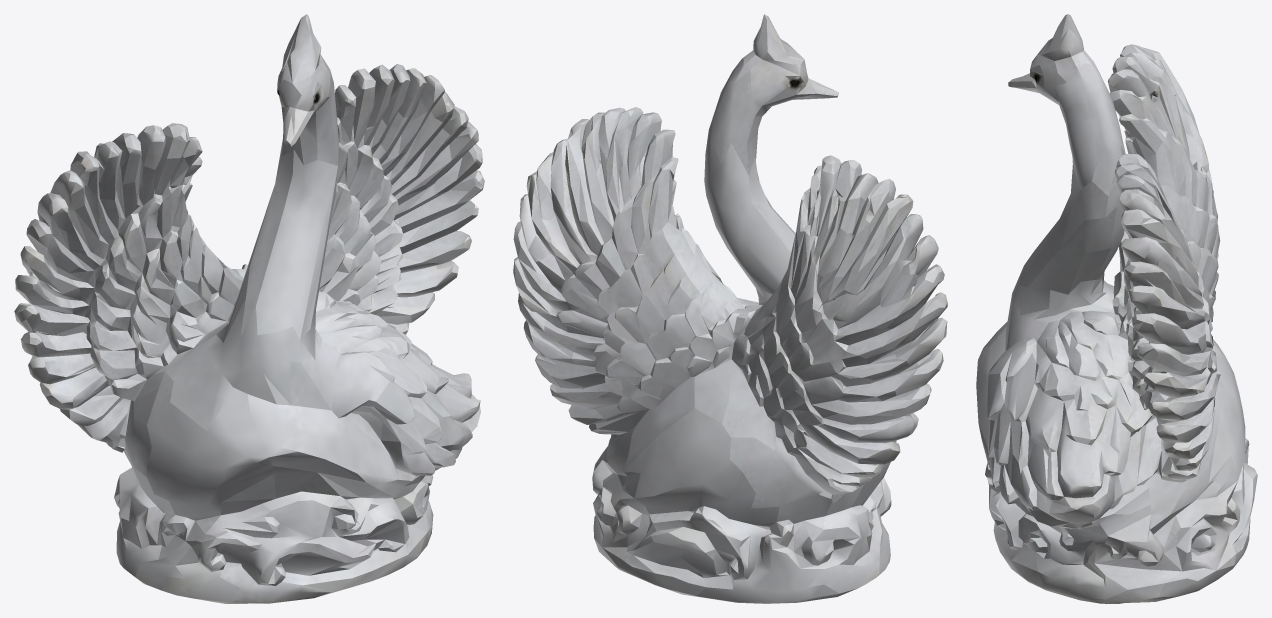
Rendered from w3hswan.glb.
The picture shows the model from 3 angles, left to right: view 1: azimuth 30°, elevation 25°; view 2: azimuth 150°, elevation 25°; view 3: azimuth 270°, elevation 25°; orthographic projection. The views are drawn at different scales.
Parts seen in each view (by area): view 1: output_unwrapped; view 2: output_unwrapped; view 3: output_unwrapped.
Part boxes in pixels (x1,y1,x2,y2): output_unwrapped: [14, 14, 484, 603]; output_unwrapped: [513, 14, 947, 603]; output_unwrapped: [976, 14, 1257, 603].
Size of the model in its own units: 0.2433 by 0.28 by 0.1351.
1 material, 1 textured.
